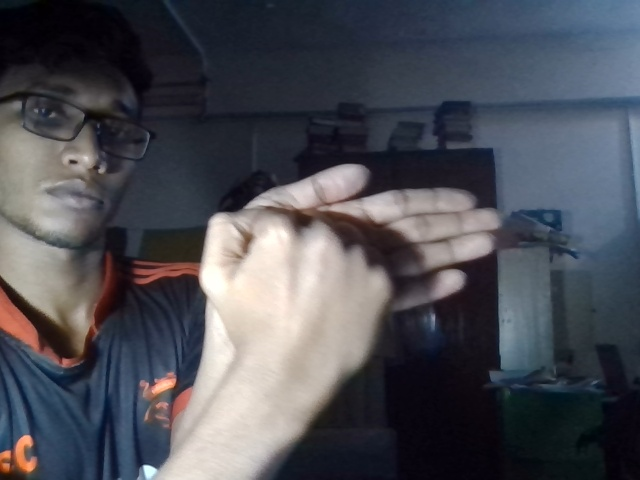b: (198, 161, 505, 354)
